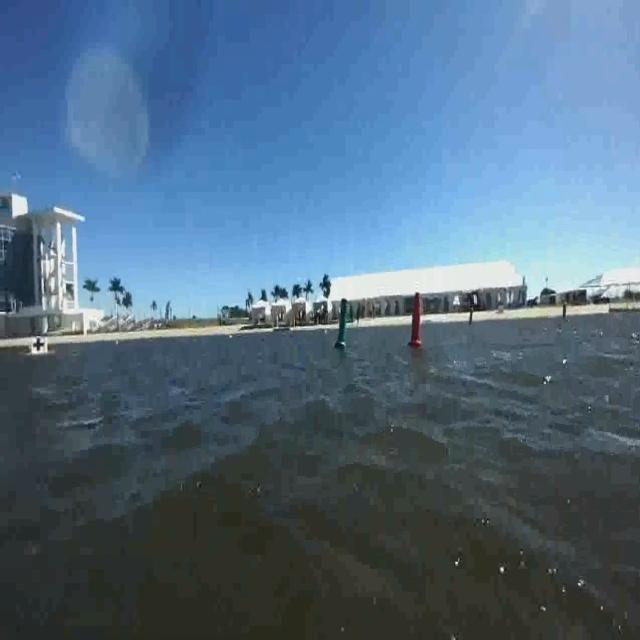green-column-buoy: (336, 299, 353, 351)
red-column-buoy: (408, 290, 426, 349)
